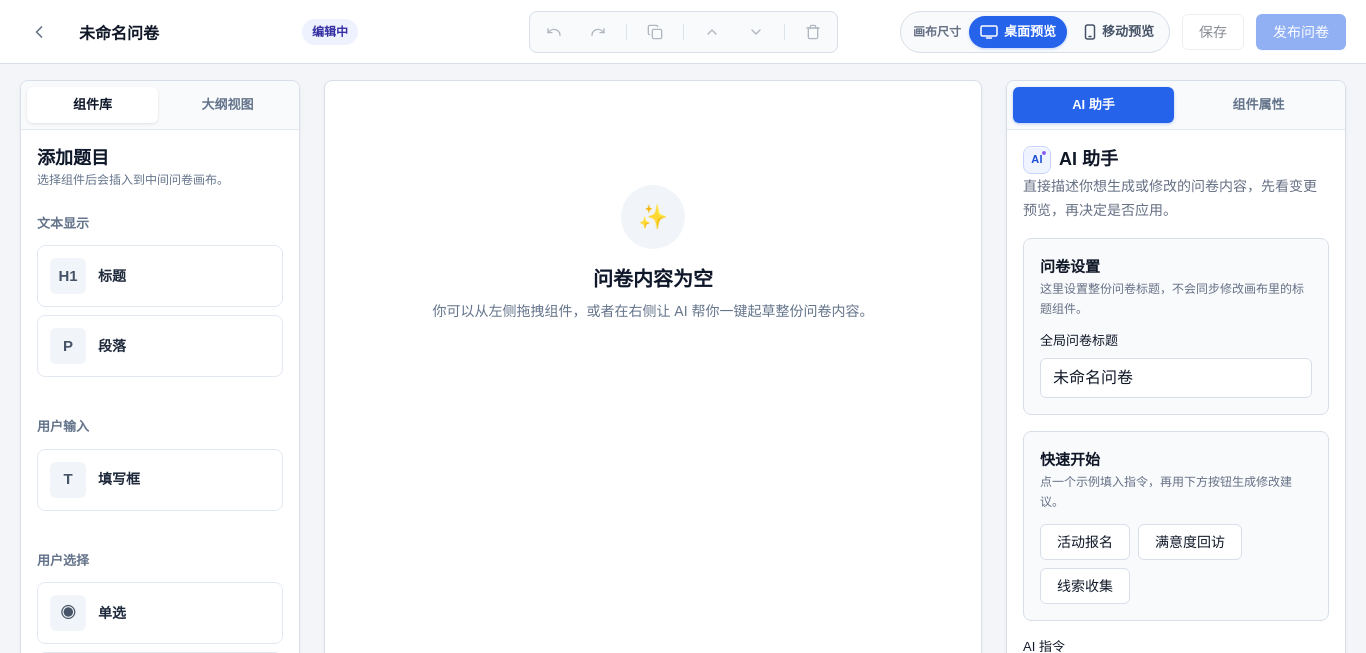
Scenario: EditorShell › renders drag handles for sortable canvas cards
Click the button "H1 标题".
click(160, 276)  # box [37, 245, 283, 307]
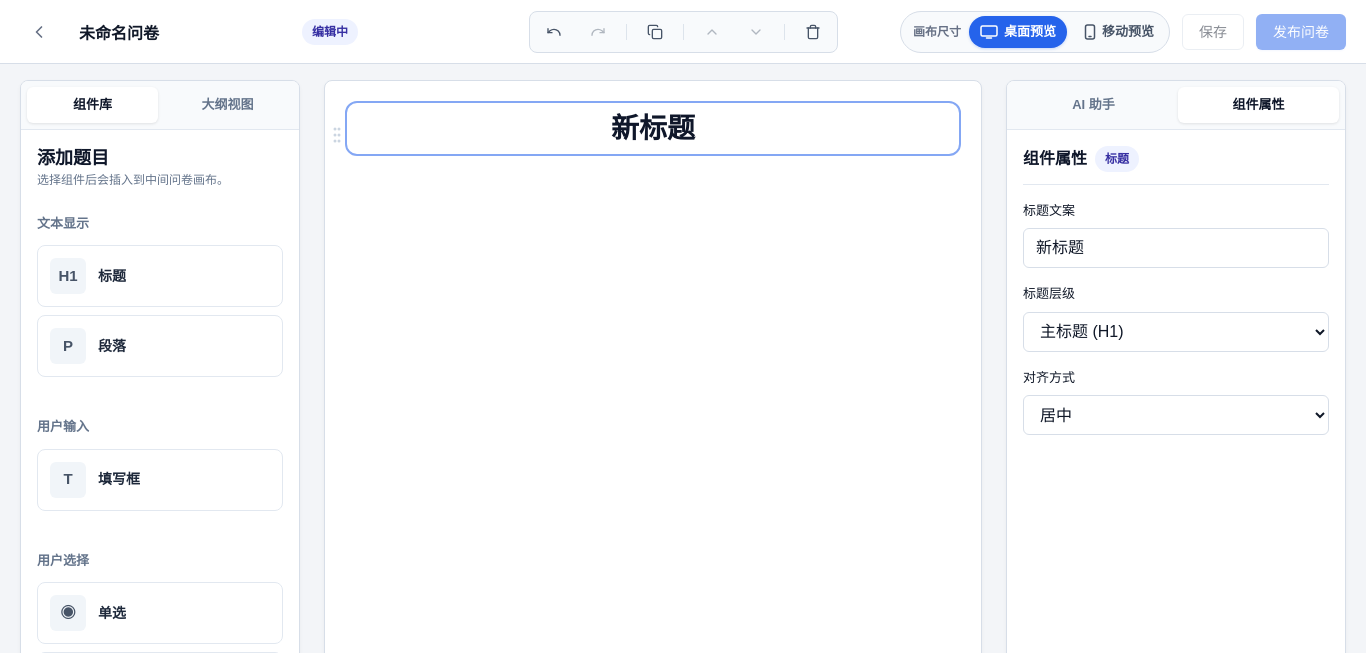
Click the button "T 填写框".
click(160, 480)  # box [37, 448, 283, 510]
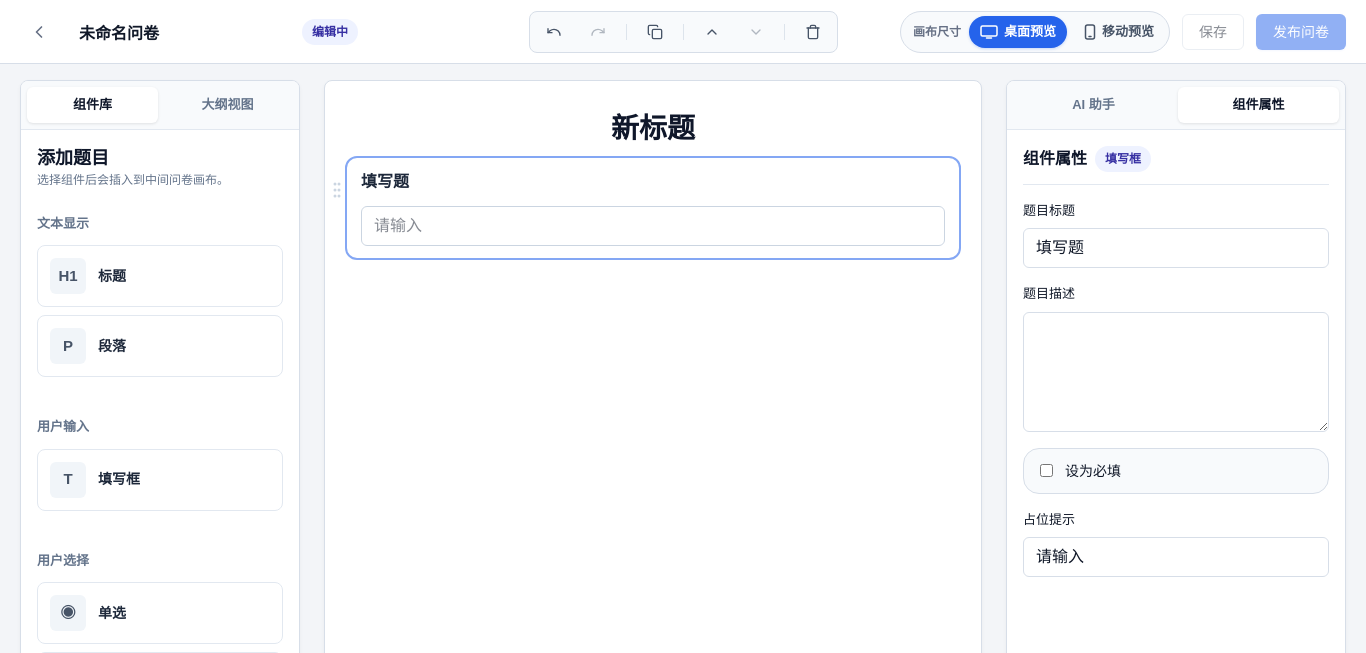
Check: the button named "拖拽排序 填写题" is shown, box [325, 176, 349, 204]
